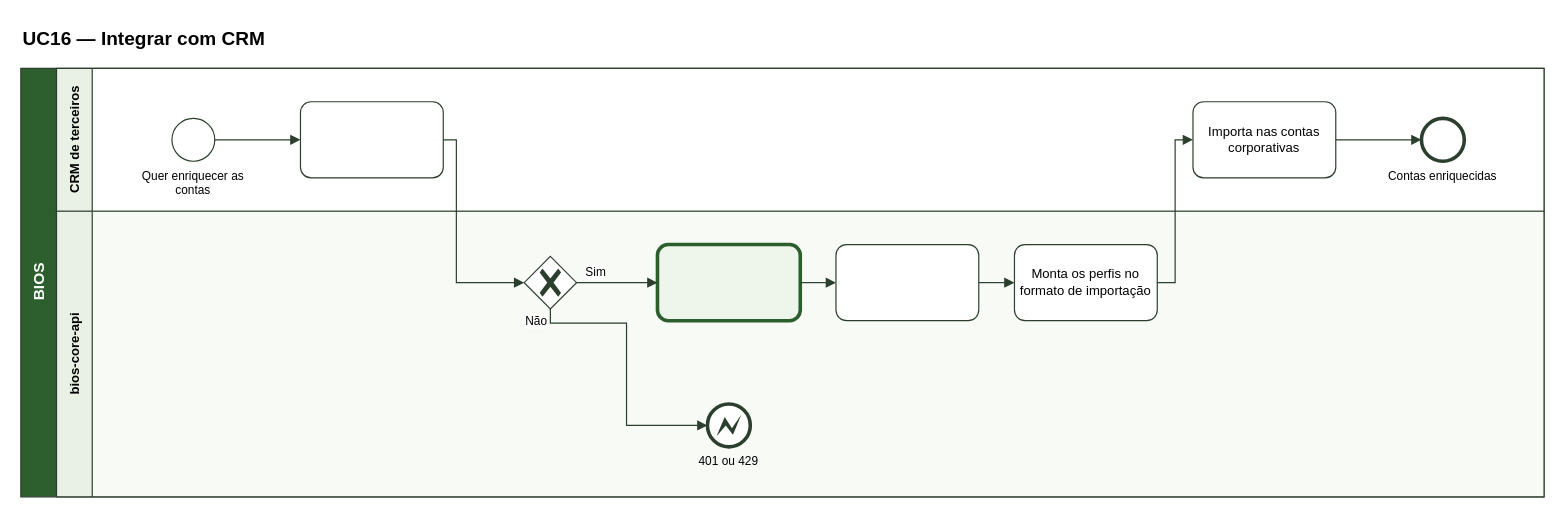
The diagram is 1565 pixels wide and 518 high, and some of its shapes have lost their labels. The centre of each missing label's shape, as x and y in pixels:
"Chave válida e dentro do limite?" belongs at pixel 550 282.
"Consultar Perfil via API (UC12), para cada CNPJ" belongs at pixel 728 282.
"POST /v1/crm/companies com os CNPJs e x-api-key" belongs at pixel 371 139.
"Registra o estado de cada CNPJ, sem derrubar o lote" belongs at pixel 907 282.
